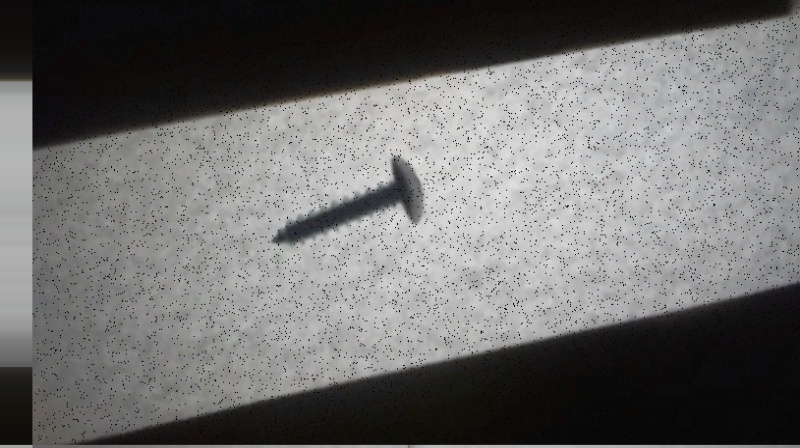S003: (265, 152, 428, 252)
